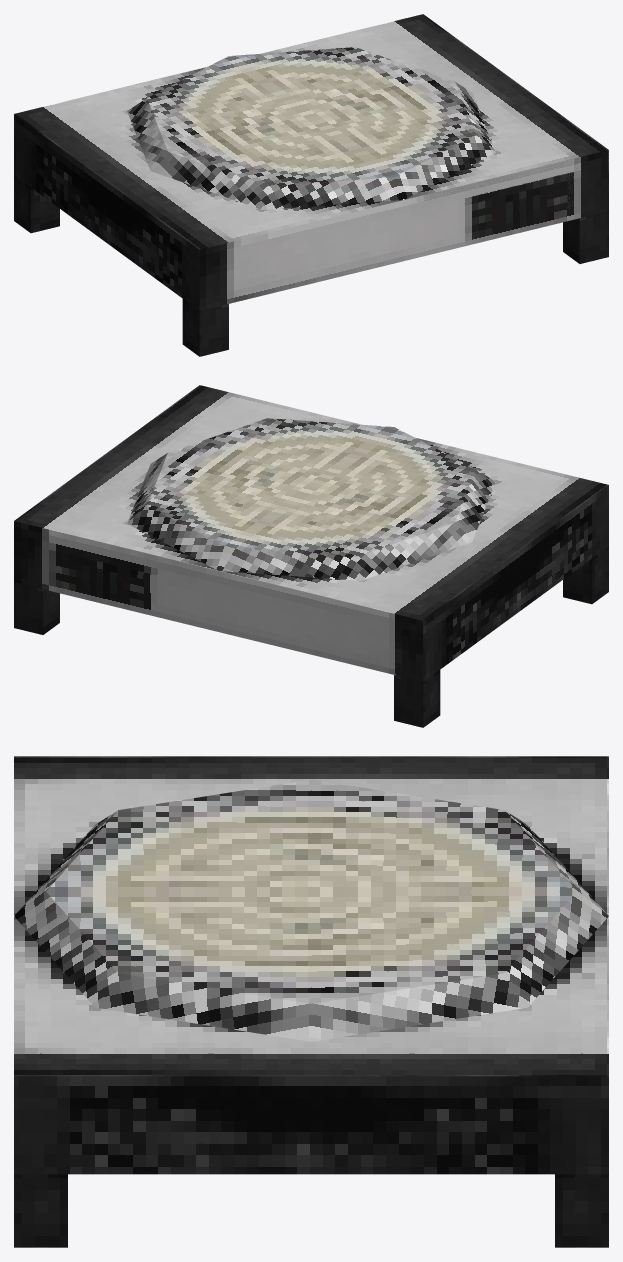
Rendered from ElectricStove.glb.
3 views of the same model, one above another, from view 1: azimuth 30°, elevation 25°; view 2: azimuth 150°, elevation 25°; view 3: azimuth 270°, elevation 25° (orthographic). The views are drawn at different scales.
Parts seen in each view (by area): view 1: electric stove; view 2: electric stove; view 3: electric stove.
Boxes of the visible parts, bbox=[...] form: electric stove: bbox=[14, 14, 608, 356]; electric stove: bbox=[14, 385, 608, 727]; electric stove: bbox=[14, 756, 608, 1247].
Bounding box in the file's own units: 0.28 × 0.08 × 0.22.
1 material, 1 textured.
